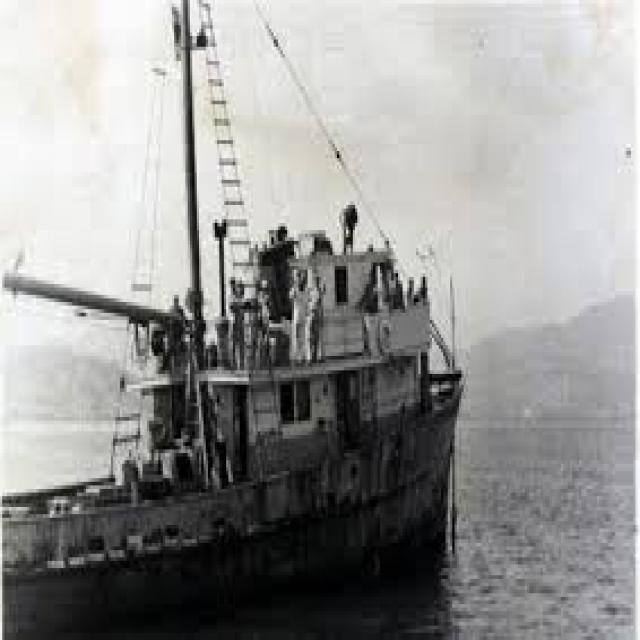Ship: (1, 1, 489, 608)
